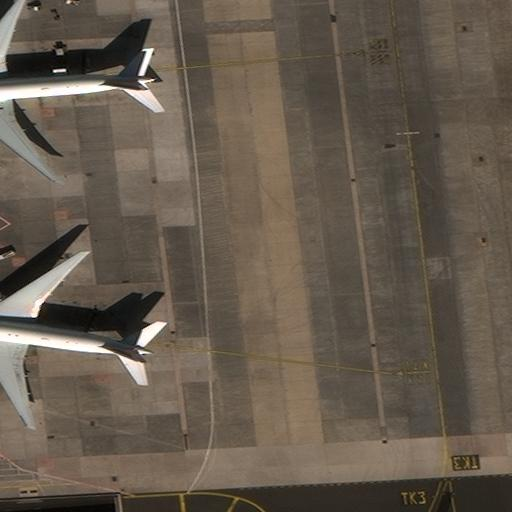Large Civil Transport: (0, 0, 157, 181), (0, 250, 153, 427)
